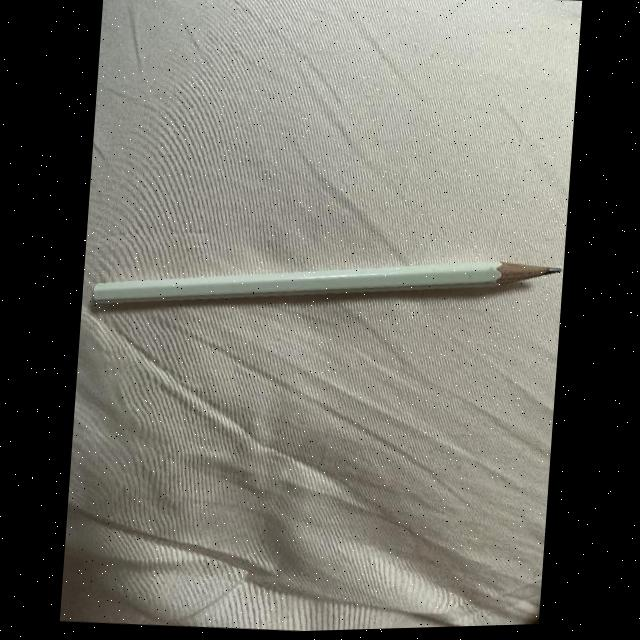pencil: (87, 231, 563, 341)
